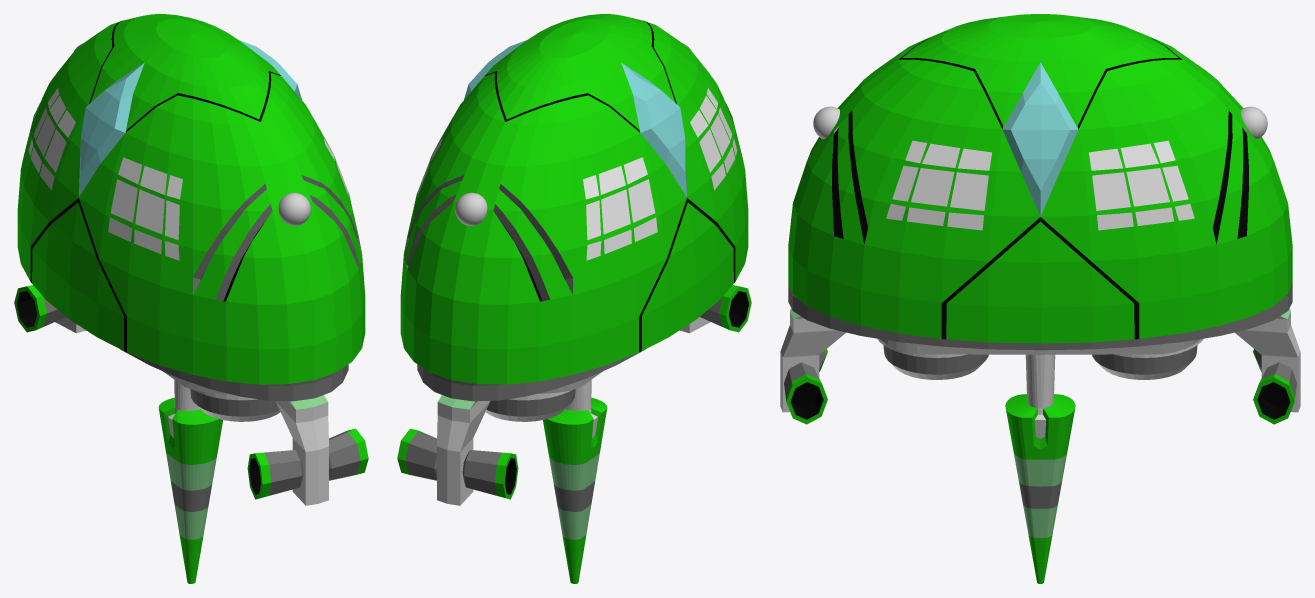
Rendered from Alien.fbx.
3 views of the same model, side by side, from view 1: azimuth 30°, elevation 25°; view 2: azimuth 150°, elevation 25°; view 3: azimuth 270°, elevation 25° (orthographic). The views are drawn at different scales.
Visible parts, largest first — view 1: Sphere; view 2: Sphere; view 3: Sphere.
Boxes of the visible parts, x1,y1,x2,y2 form: Sphere: [14, 14, 368, 583]; Sphere: [397, 14, 751, 583]; Sphere: [780, 14, 1300, 583].
Size of the model in its own units: 363 by 780 by 655.
